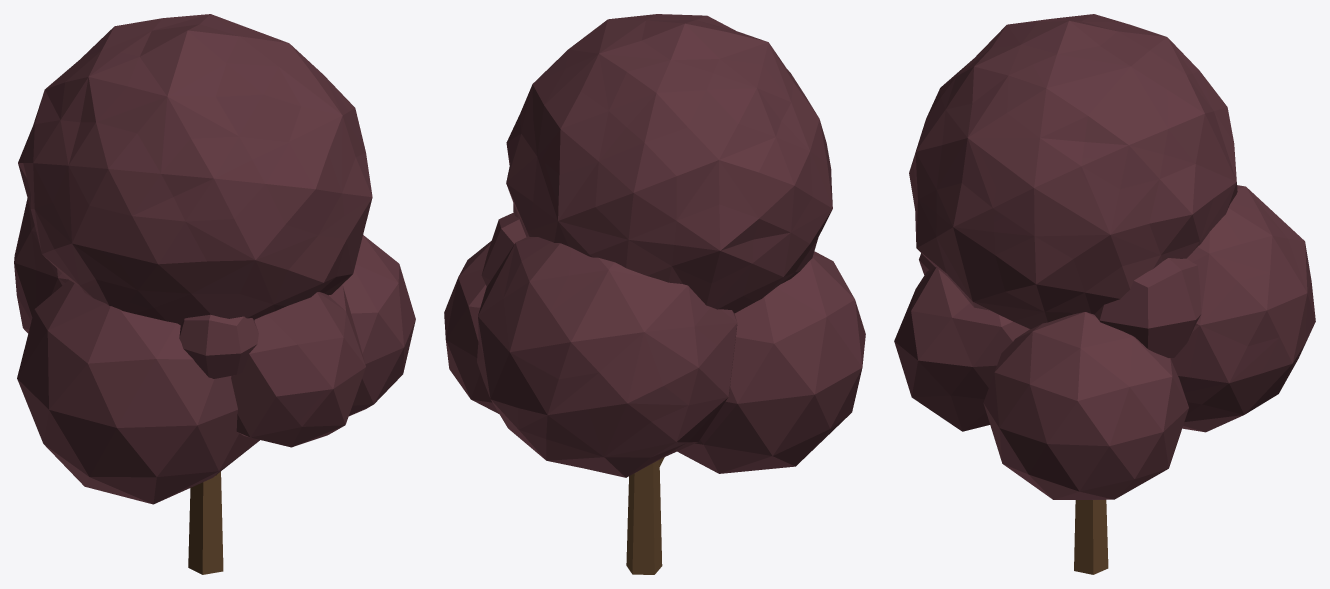
Rendered from tree-lime.fbx.
3 renders of one model, left to right at view 1: azimuth 30°, elevation 25°; view 2: azimuth 150°, elevation 25°; view 3: azimuth 270°, elevation 25°, orthographic. The views are drawn at different scales.
Parts seen in each view (by area): view 1: tree-lime; view 2: tree-lime; view 3: tree-lime.
Boxes of the visible parts, x1=… form: tree-lime: x1=14, y1=14, x2=415, y2=574; tree-lime: x1=444, y1=14, x2=865, y2=574; tree-lime: x1=894, y1=14, x2=1315, y2=574.
Bounding box in the file's own units: 7.07 × 9.74 × 7.
